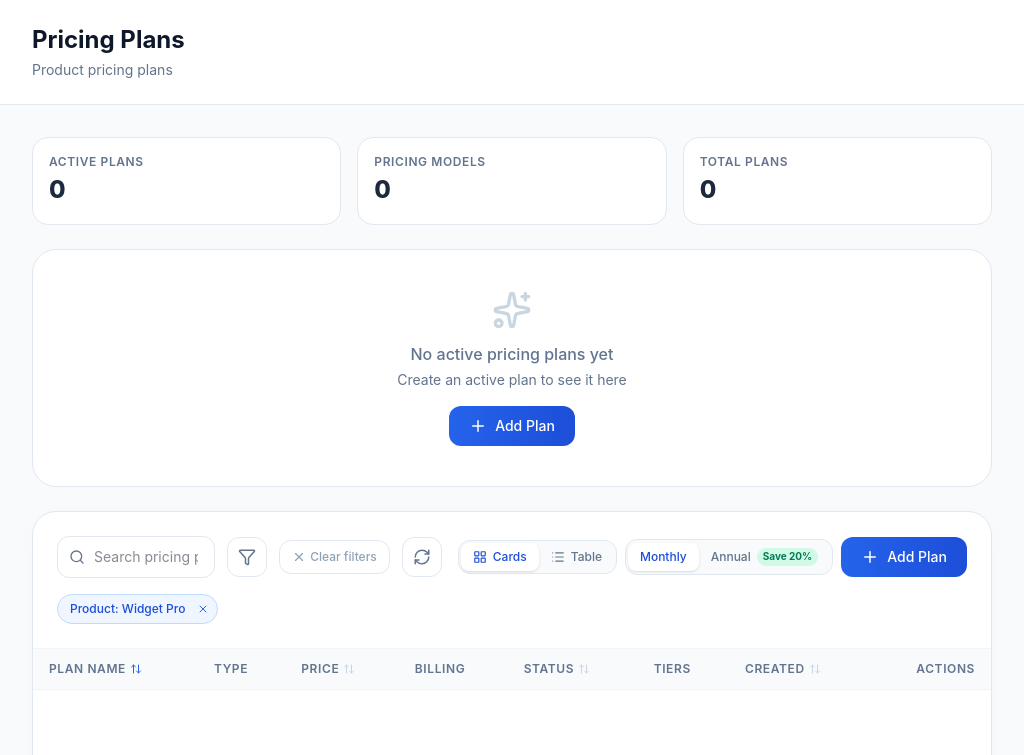
Test: BUG-12.4 Pricing Plans honours ?product_id › Clear filters resets the page filters but keeps product_id and unrelated params
Type "gold" into the field labelled "Search pricing plans" at (136, 557), box [57, 536, 215, 578]
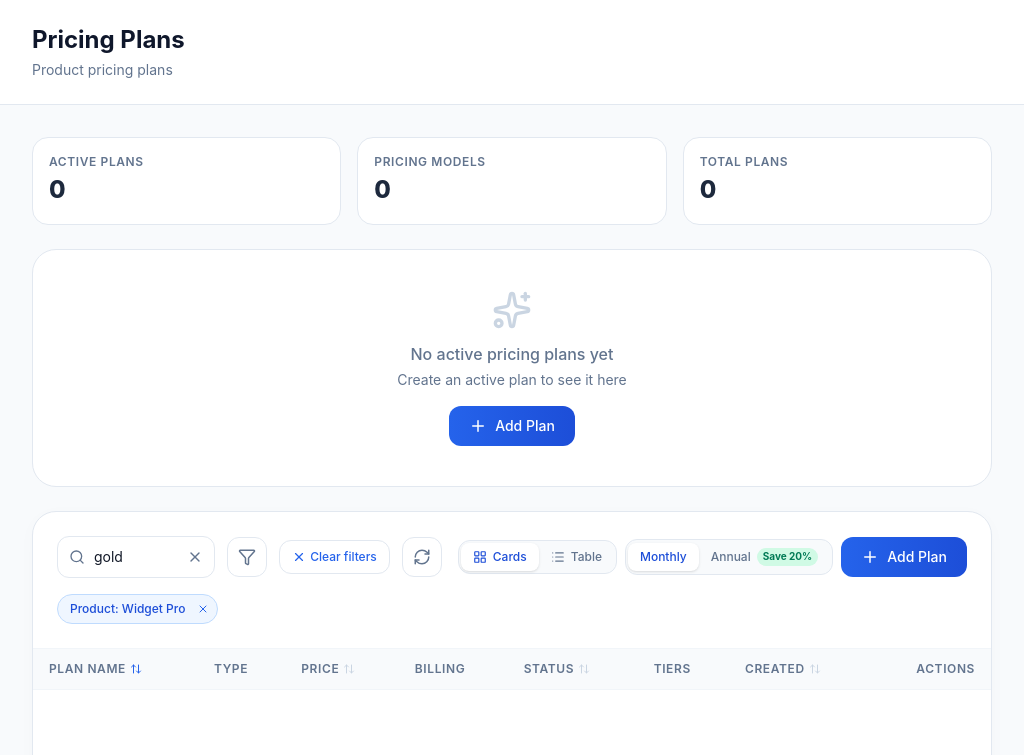
Click the button "Clear filters" at (334, 557), box [279, 540, 390, 574]
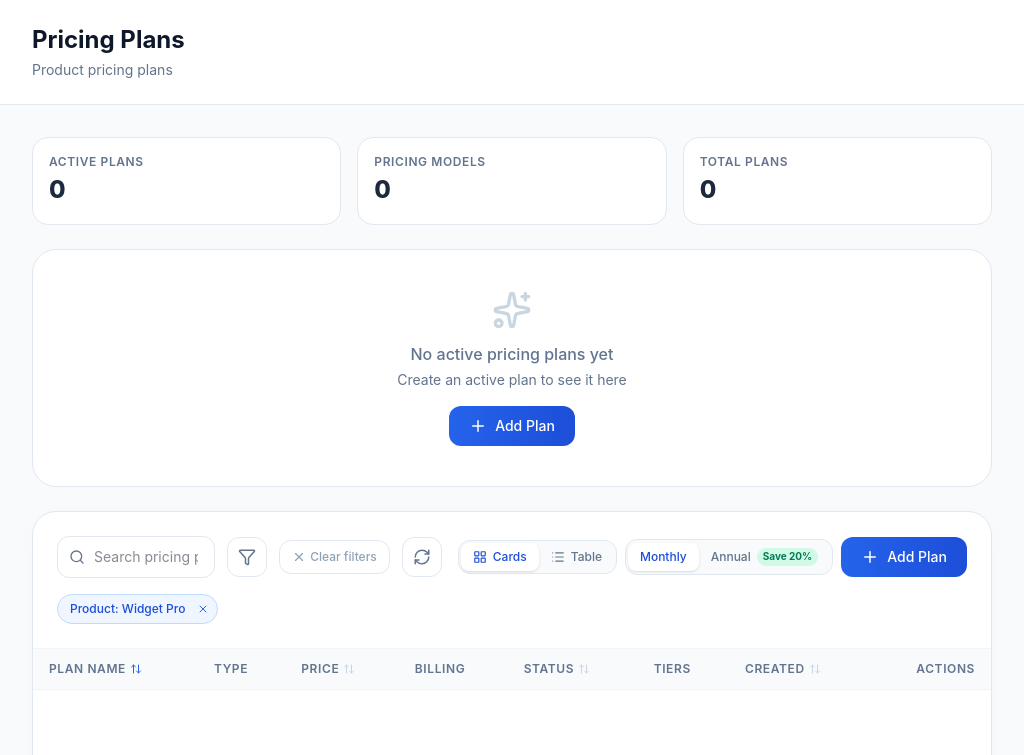
expect the text "Product: Widget Pro" is shown: met, box [70, 601, 186, 617]
expect the field labelled "Search pricing plans" is empty: met, box [57, 536, 215, 578]
